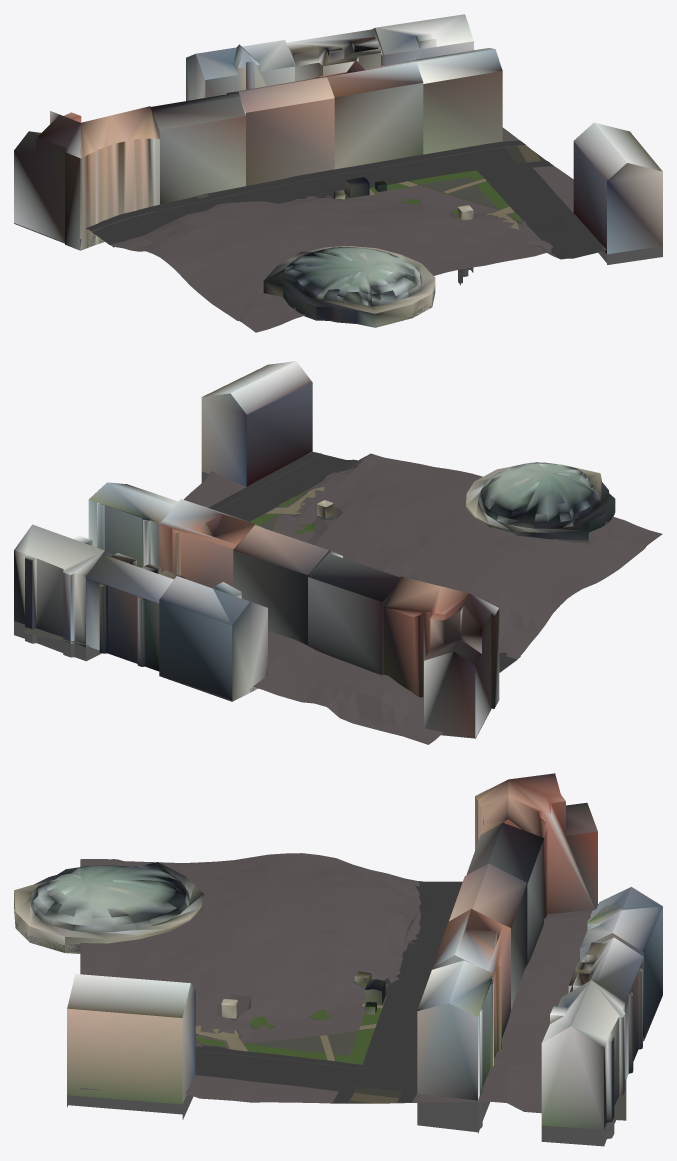
3 renders of one model, top to bottom at view 1: azimuth 30°, elevation 25°; view 2: azimuth 150°, elevation 25°; view 3: azimuth 270°, elevation 25°, orthographic. The views are drawn at different scales.
Parts seen in each view (by area): view 1: append:c_m12_m04, c_m12_m04; view 2: append:c_m12_m04, c_m12_m04; view 3: append:c_m12_m04, c_m12_m04.
Boxes of the visible parts, bbox=[...] form: append:c_m12_m04: bbox=[14, 29, 606, 332]; c_m12_m04: bbox=[372, 14, 662, 264]; append:c_m12_m04: bbox=[22, 451, 662, 744]; c_m12_m04: bbox=[14, 361, 312, 661]; append:c_m12_m04: bbox=[14, 773, 662, 1120]; c_m12_m04: bbox=[67, 960, 625, 1146].
Bounding box in the file's own units: 142 × 43.79 × 152.
